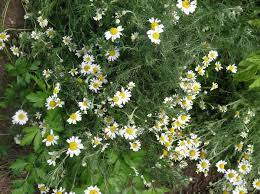pineple: (131, 44, 208, 108)
